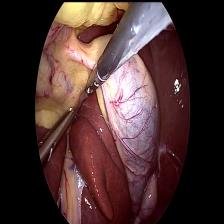Grasper: (40, 102, 76, 162), (78, 59, 104, 102)
